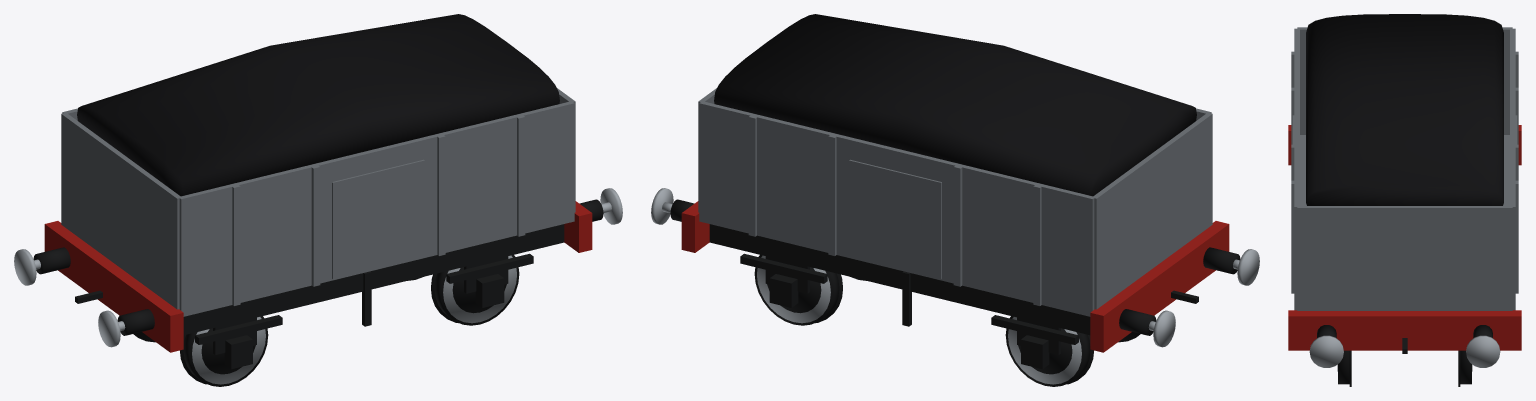
Rendered from coal_truck.glb.
The picture shows the model from 3 angles, left to right: view 1: azimuth 30°, elevation 25°; view 2: azimuth 150°, elevation 25°; view 3: azimuth 270°, elevation 25°; orthographic projection. The views are drawn at different scales.
Visible parts, largest first — view 1: carvao, lateral.001, cabeceira.001, porta_lateral.001, longarina.001, viga.001, roda_face-1, roda_face-1.001, reforco.005, viga, reforco.007, reforco.004 (+15 smaller); view 2: carvao, lateral, cabeceira.001, porta_lateral, longarina, viga.001, roda_face1, roda_face1.001, reforco.001, viga, reforco.003, reforco (+15 smaller); view 3: carvao, cabeceira, viga, lateral.001, lateral, cabeceira.001, buffer_cabeca, buffer_cabeca.001, fundo, reforco.003, reforco.007, roda_roda1 (+2 smaller).
Boxes of the visible parts, x1,y1,x2,y2 form: carvao: (77,14,559,196); lateral.001: (178,101,574,316); cabeceira.001: (61,112,181,309); porta_lateral.001: (332,159,424,278); longarina.001: (183,224,564,335); viga.001: (44,221,183,352); roda_face-1: (443,255,516,323); roda_face-1.001: (192,317,265,384); reforco.005: (311,165,320,286); viga: (564,201,592,252); reforco.007: (516,115,525,236); reforco.004: (232,185,240,305); carvao: (714,14,1196,196); lateral: (699,102,1095,316); cabeceira.001: (1092,112,1212,309); porta_lateral: (849,159,941,278); longarina: (709,224,1090,335); viga.001: (1090,221,1229,352); roda_face1: (757,255,830,323); roda_face1.001: (1008,317,1081,384); reforco.001: (953,165,962,286); viga: (681,201,709,252); reforco.003: (748,115,757,236); reforco: (1033,185,1041,305); carvao: (1306,14,1503,205); cabeceira: (1297,206,1512,310); viga: (1288,310,1521,350); lateral.001: (1294,28,1299,310); lateral: (1510,28,1515,310); cabeceira.001: (1297,27,1512,134); buffer_cabeca: (1466,335,1500,367); buffer_cabeca.001: (1309,335,1343,367); fundo: (1300,135,1509,205); reforco.003: (1514,180,1518,293); reforco.007: (1291,180,1295,293); roda_roda1: (1460,350,1471,384).
Bounding box in the file's own units: 6.05 × 2.98 × 2.6.
